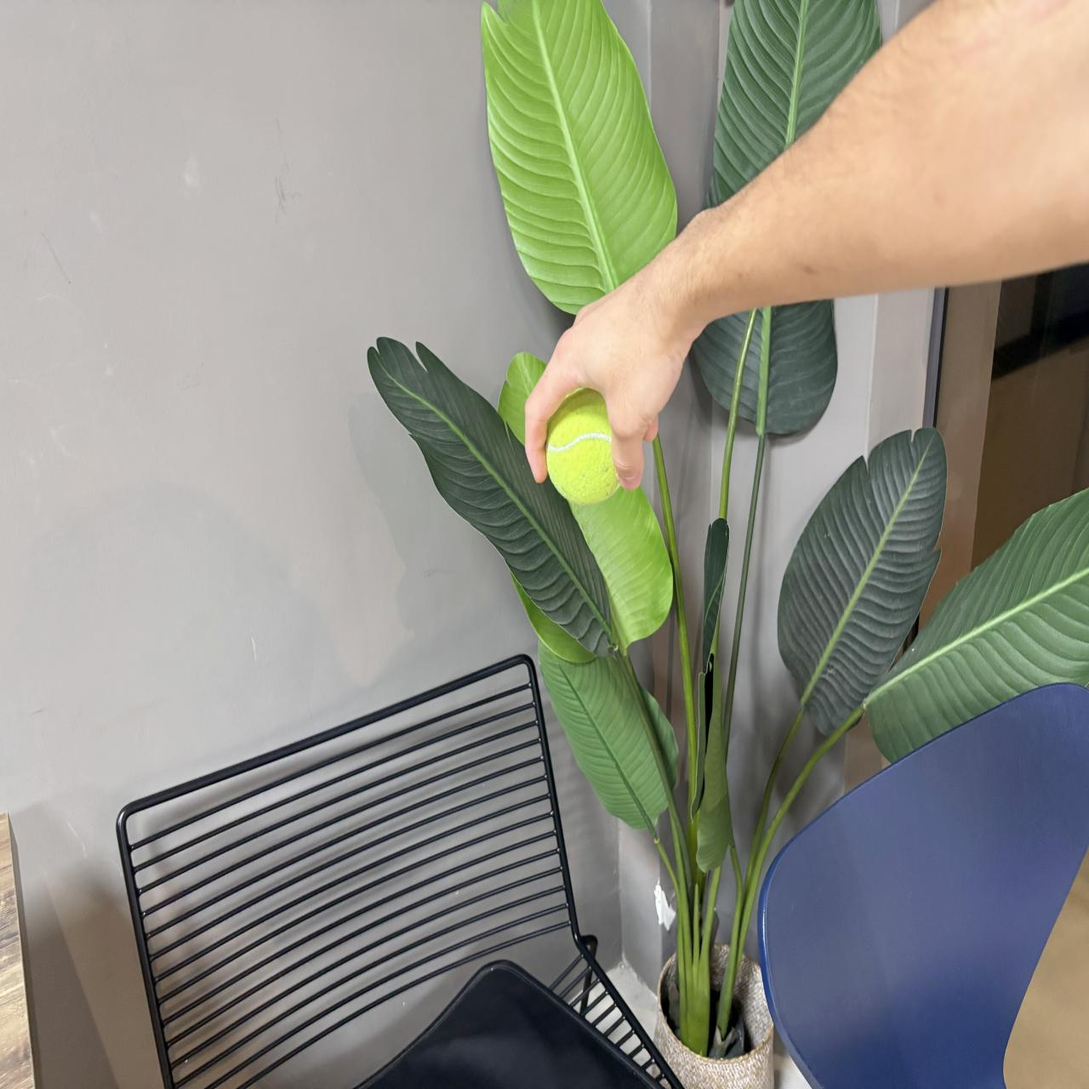tennisball: (547, 391, 619, 505)
